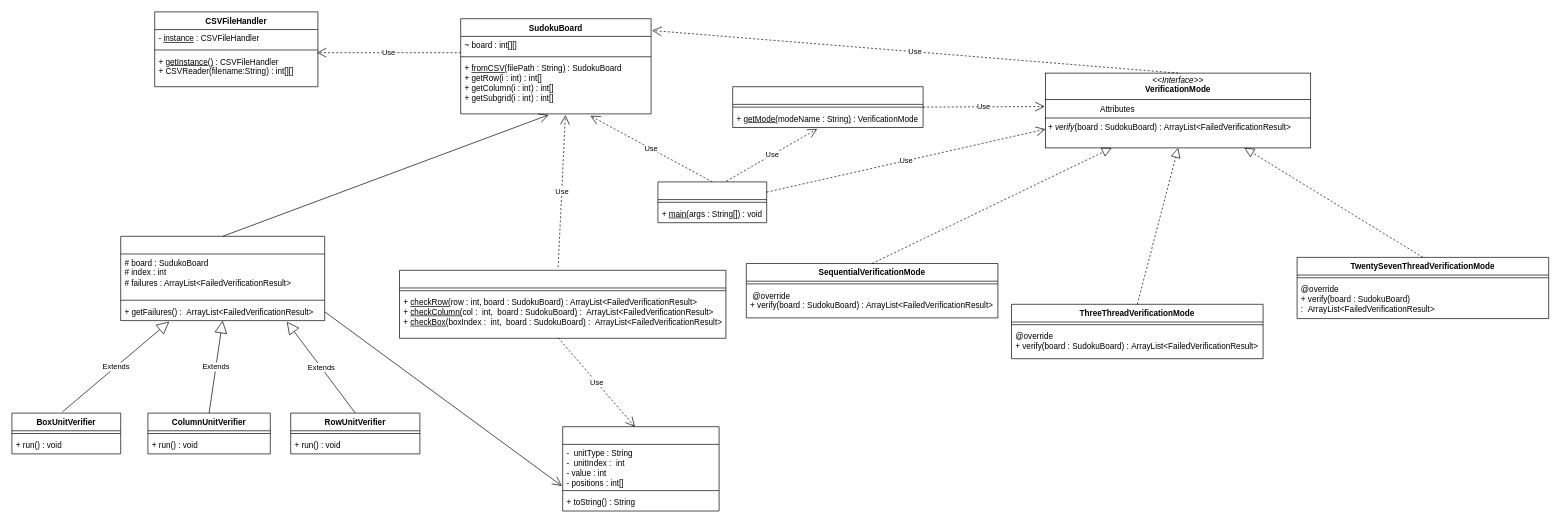
The diagram is 1561 pixels wide and 525 high, and some of its shapes have lost their labels. The box of each missing label's shape, as (x1, y1, x2, y2) in pixels:
FailedVerificationResult: (562, 426, 719, 511)
SudokuApp: (657, 181, 767, 223)
UnitChecker: (399, 270, 726, 338)
UnitVerifier: (120, 236, 325, 321)
VerificationModeFactory: (732, 86, 923, 128)
